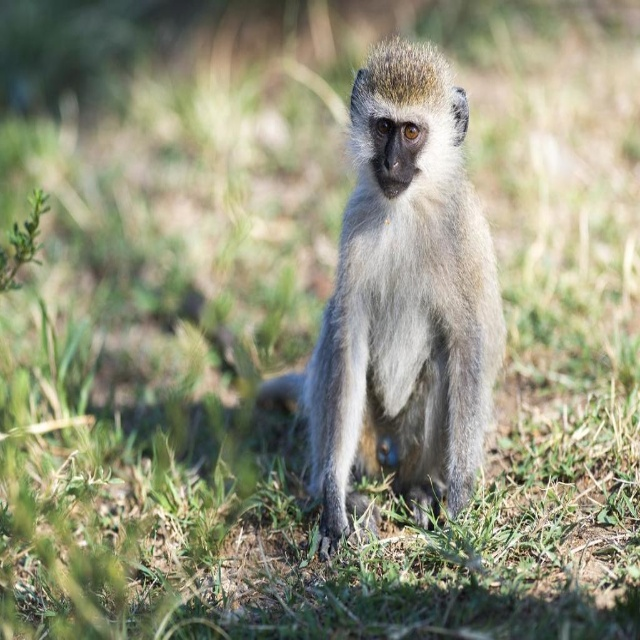Monkey: (254, 31, 509, 558)
